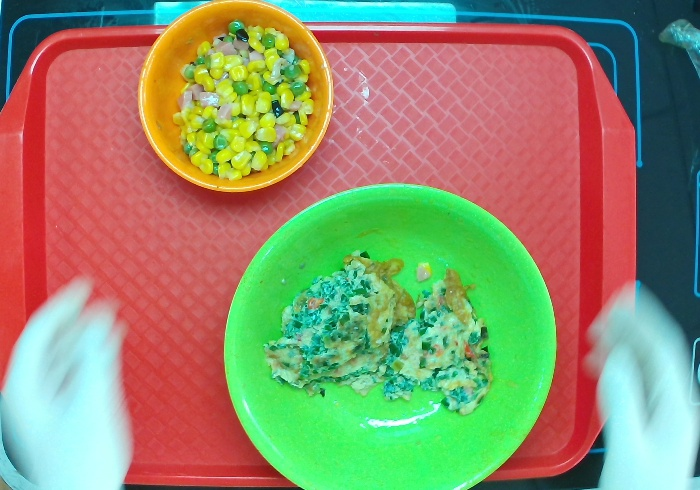YKMZ-Ju_Se_Yuan_Wan: (135, 1, 338, 200)
YKMZ-Lv_Se_Tang_Wan: (218, 172, 574, 490)
